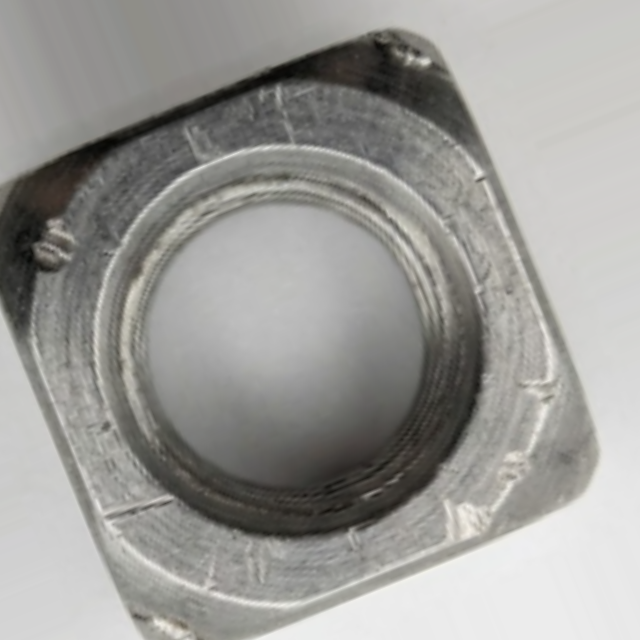defect: (357, 14, 449, 85), (429, 490, 513, 554), (17, 212, 86, 280), (503, 355, 572, 416), (255, 82, 319, 147), (85, 488, 193, 523), (490, 446, 545, 490), (177, 120, 231, 163)
